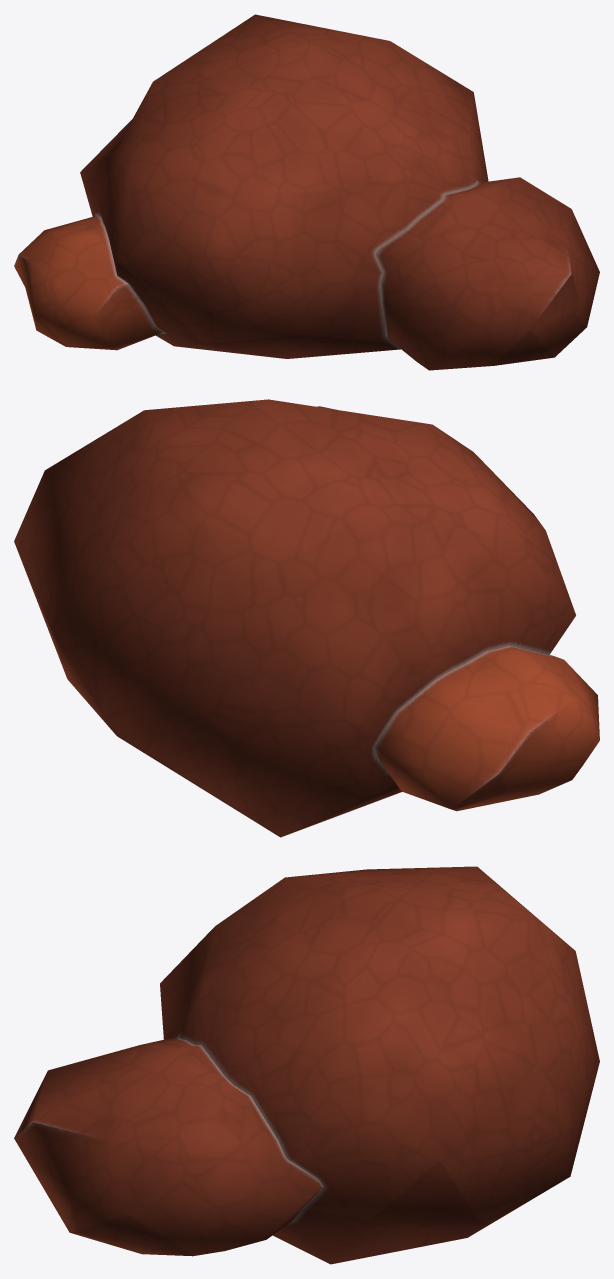
The model's file is rr_rock.glb.
3 views of the same model, one above another, from view 1: azimuth 30°, elevation 25°; view 2: azimuth 150°, elevation 25°; view 3: azimuth 270°, elevation 25° (orthographic). The views are drawn at different scales.
Visible parts, largest first — view 1: rr_rock; view 2: rr_rock; view 3: rr_rock.
Part boxes in pixels (bbox=[...]): rr_rock: bbox=[14, 14, 599, 370]; rr_rock: bbox=[14, 399, 599, 837]; rr_rock: bbox=[14, 866, 599, 1264].
Bounding box in the file's own units: 3.09 × 1.88 × 2.97.
Materials: 2 (2 with a texture image).
